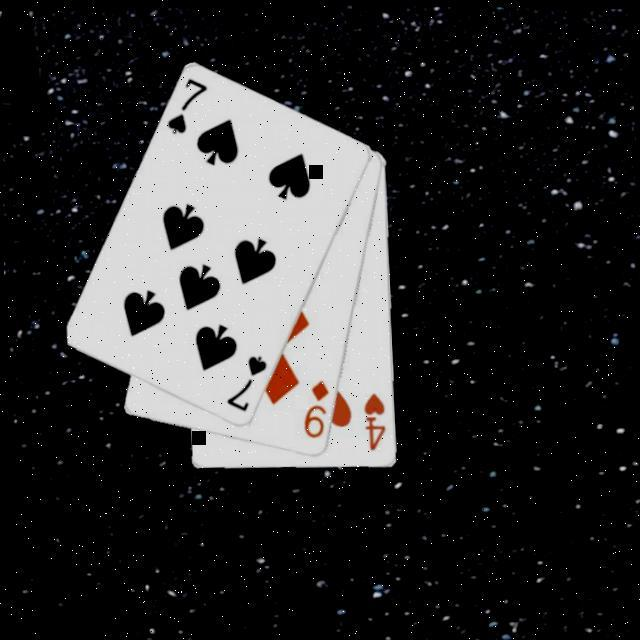4H: (358, 387, 388, 452)
7S: (218, 350, 270, 415), (160, 72, 211, 136)
9D: (296, 375, 332, 440)
